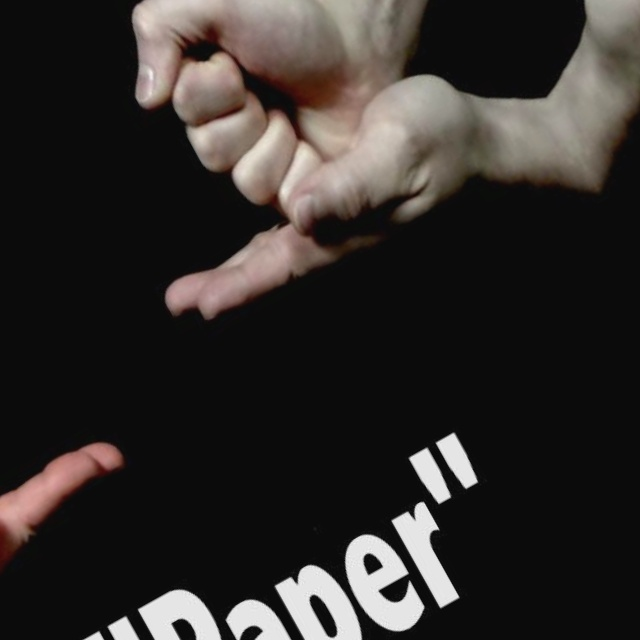Rock: (96, 0, 442, 252), (0, 0, 304, 6)
